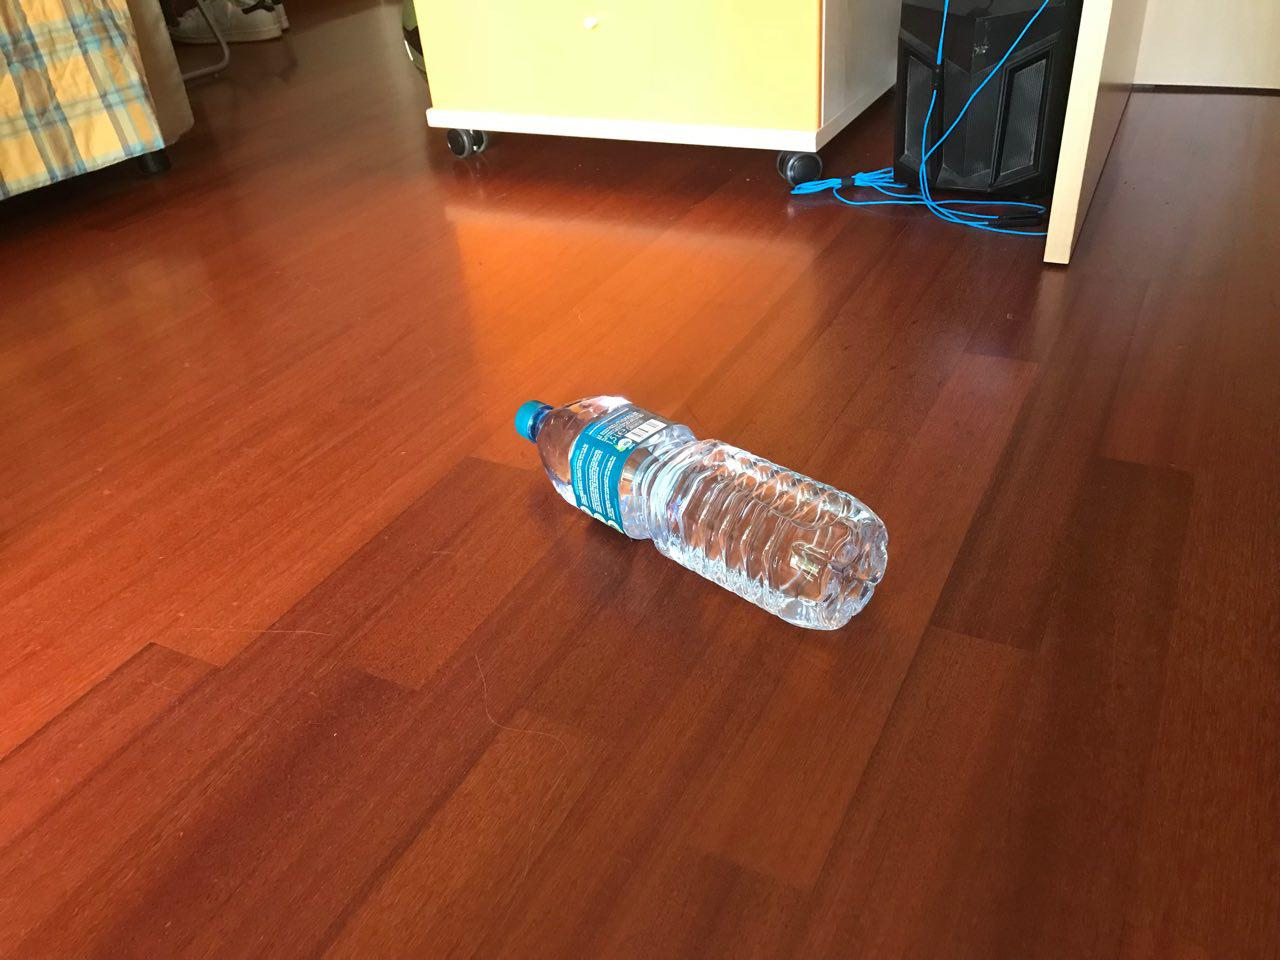san_bernardo: (513, 392, 890, 633)
